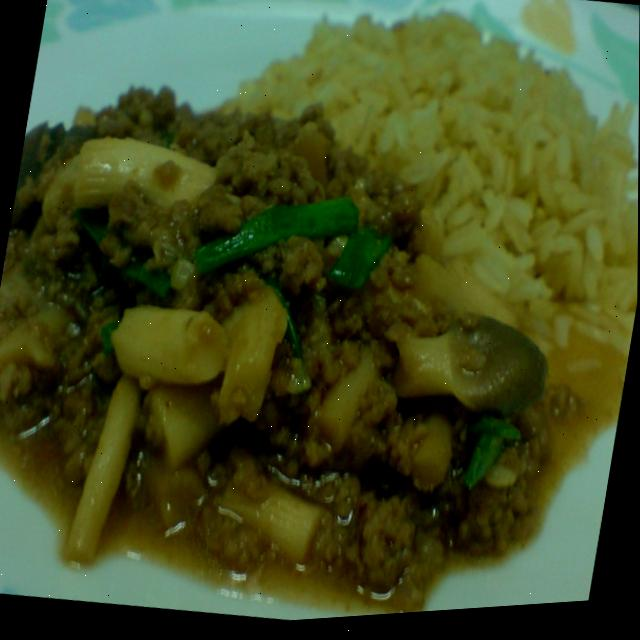牛肉菜式: (0, 0, 628, 640)
